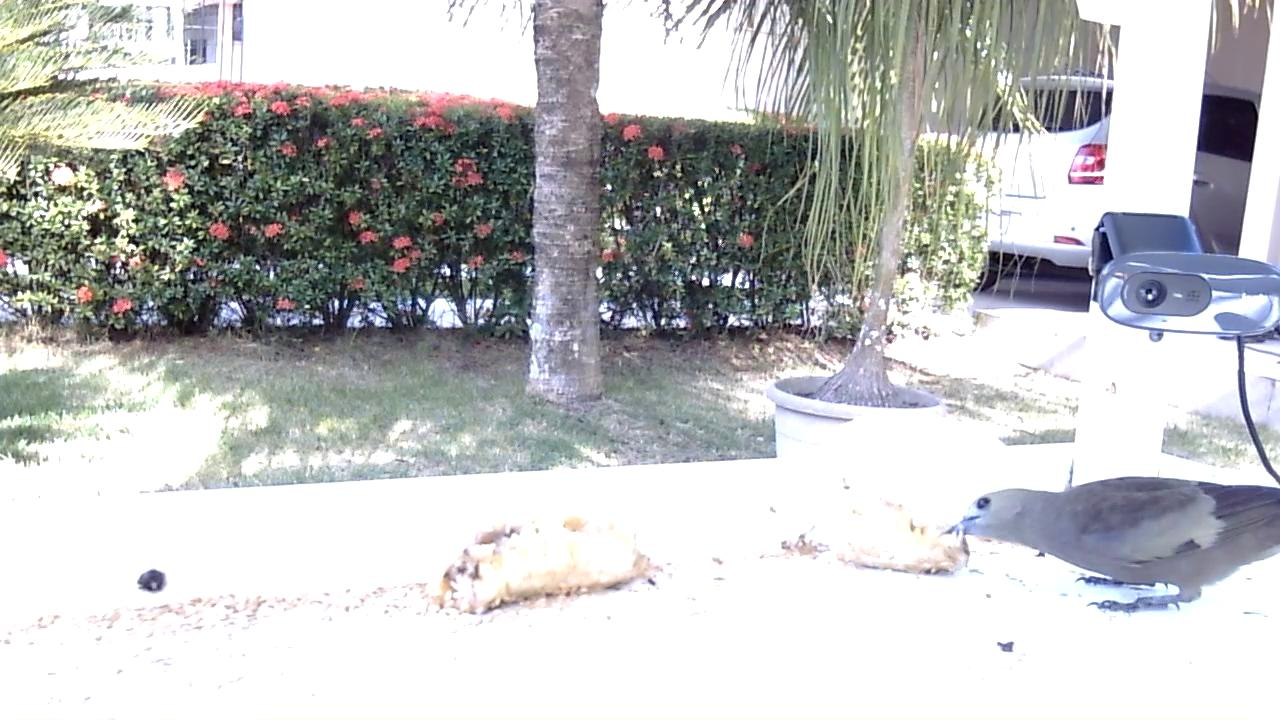sanhaco_do_coqueiro: (944, 477, 1280, 617)
